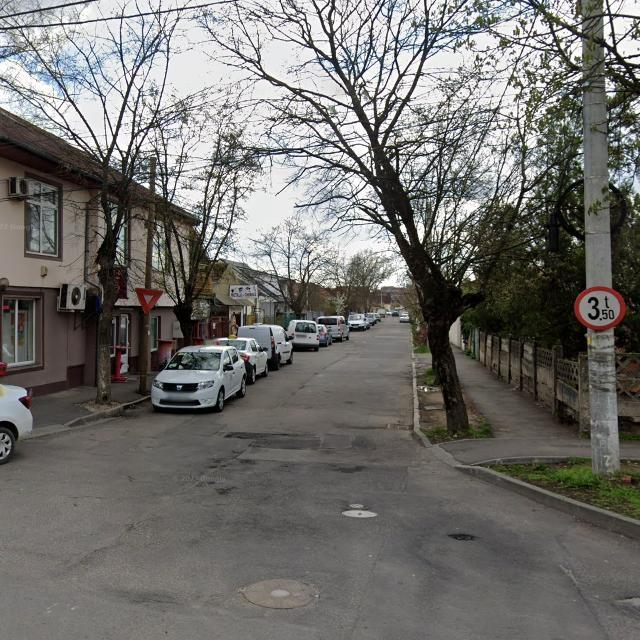prio_give_way: (135, 288, 163, 315)
